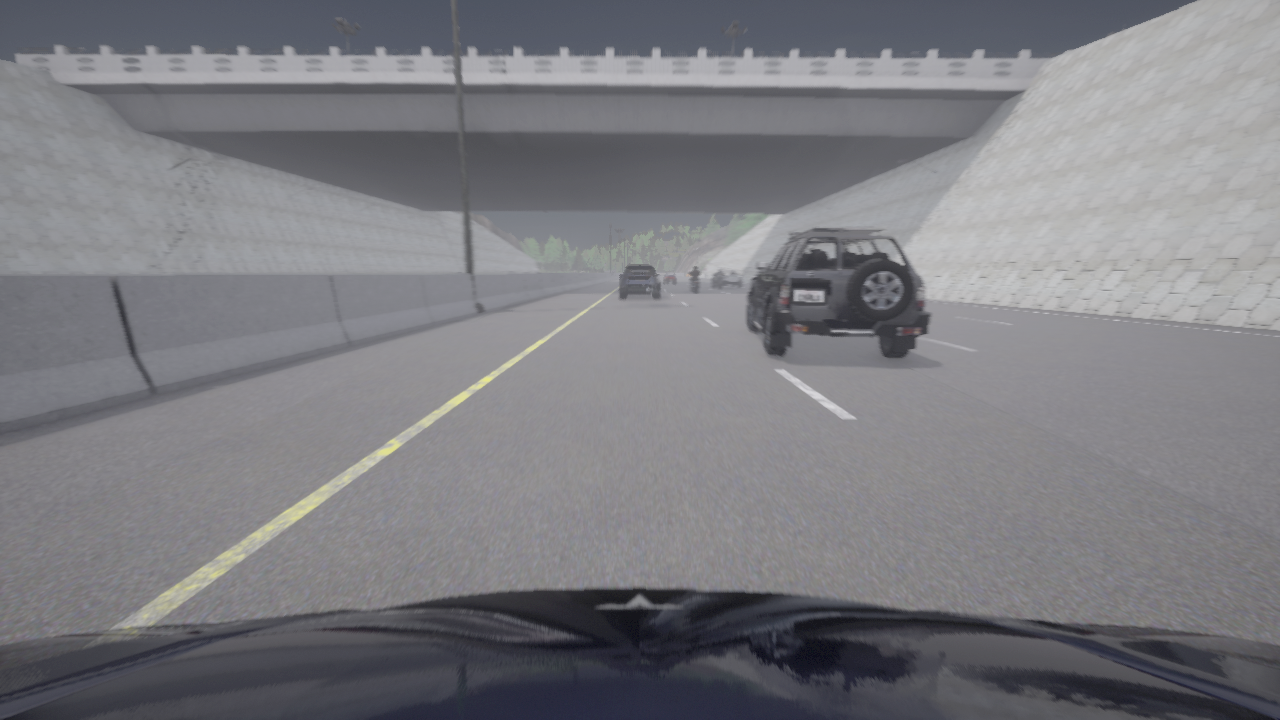cyclist: (0, 588, 1279, 719), (747, 228, 930, 358), (620, 264, 659, 298), (712, 269, 741, 287), (752, 269, 764, 283), (664, 271, 675, 283), (691, 278, 699, 291)
